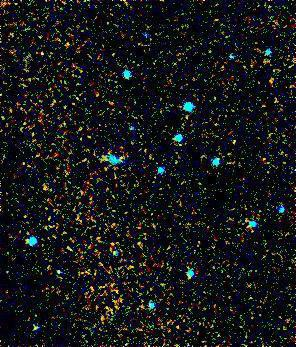star: (32, 34, 62, 64)
